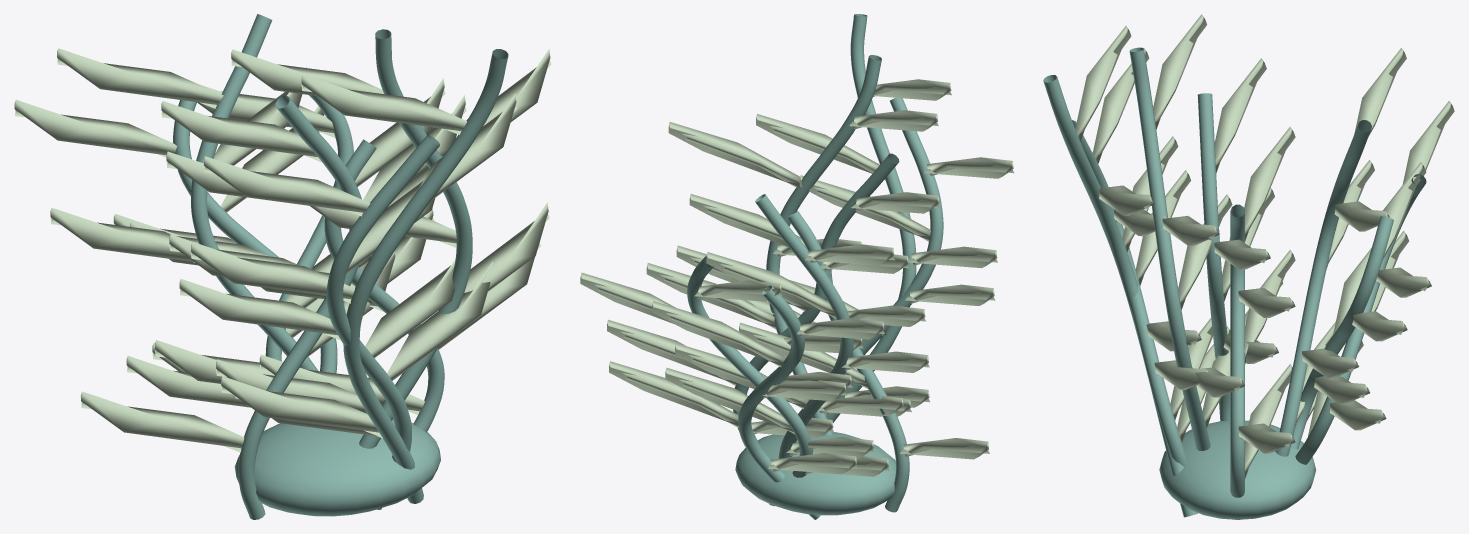
File: bio_aquatic_frond_06_near.glb
The picture shows the model from 3 angles, left to right: view 1: azimuth 30°, elevation 25°; view 2: azimuth 150°, elevation 25°; view 3: azimuth 270°, elevation 25°; orthographic projection. The views are drawn at different scales.
Parts seen in each view (by area): view 1: Ruffled aquatic blade.010, Holdfast, Ruffled aquatic blade.035, Ruffled aquatic blade.020, Ruffled aquatic blade.005, Ruffled aquatic blade.025, Flexible stipe.002, Ruffled aquatic blade.030, Ruffled aquatic blade.015, Flexible stipe.007, Flexible stipe.004, Flexible stipe.005 (+5 smaller); view 2: Ruffled aquatic blade.030, Ruffled aquatic blade.005, Ruffled aquatic blade.020, Ruffled aquatic blade.025, Holdfast, Ruffled aquatic blade.015, Ruffled aquatic blade.010, Ruffled aquatic blade.035, Ruffled aquatic blade, Flexible stipe.004, Flexible stipe.005, Flexible stipe.002 (+5 smaller); view 3: Holdfast, Ruffled aquatic blade, Ruffled aquatic blade.025, Flexible stipe.005, Ruffled aquatic blade.010, Ruffled aquatic blade.035, Ruffled aquatic blade.005, Flexible stipe.001, Ruffled aquatic blade.030, Ruffled aquatic blade.020, Ruffled aquatic blade.015, Flexible stipe.002 (+5 smaller).
Boxes of the visible parts, box(x1,y1,x2,y2) form: Ruffled aquatic blade.010: box(190, 74, 517, 437); Holdfast: box(234, 419, 440, 516); Ruffled aquatic blade.035: box(179, 156, 493, 438); Ruffled aquatic blade.020: box(80, 95, 466, 452); Ruffled aquatic blade.005: box(50, 48, 371, 383); Ruffled aquatic blade.025: box(216, 49, 551, 413); Flexible stipe.002: box(343, 49, 508, 503); Ruffled aquatic blade.030: box(14, 99, 434, 372); Ruffled aquatic blade.015: box(126, 78, 445, 407); Flexible stipe.007: box(326, 134, 439, 509); Flexible stipe.004: box(238, 95, 361, 519); Flexible stipe.005: box(359, 29, 472, 448); Ruffled aquatic blade.030: box(609, 301, 884, 474); Ruffled aquatic blade.005: box(675, 244, 929, 458); Ruffled aquatic blade.020: box(689, 192, 989, 459); Ruffled aquatic blade.025: box(646, 110, 938, 415); Holdfast: box(735, 432, 896, 515); Ruffled aquatic blade.015: box(580, 272, 889, 476); Ruffled aquatic blade.010: box(756, 79, 997, 407); Ruffled aquatic blade.035: box(747, 157, 1013, 416); Ruffled aquatic blade: box(607, 245, 909, 437); Flexible stipe.004: box(821, 153, 909, 512); Flexible stipe.005: box(766, 55, 881, 435); Flexible stipe.002: box(826, 14, 916, 422); Holdfast: box(1159, 420, 1315, 519); Ruffled aquatic blade: box(1238, 127, 1295, 478); Ruffled aquatic blade.025: box(1153, 14, 1246, 428); Flexible stipe.005: box(1129, 47, 1210, 450); Ruffled aquatic blade.010: box(1075, 26, 1212, 420); Ruffled aquatic blade.035: box(1092, 48, 1230, 441); Ruffled aquatic blade.005: box(1295, 48, 1406, 426); Flexible stipe.001: box(1275, 120, 1371, 456); Ruffled aquatic blade.030: box(1308, 101, 1454, 436); Ruffled aquatic blade.020: box(1214, 58, 1283, 363); Ruffled aquatic blade.015: box(1307, 162, 1426, 420); Flexible stipe.002: box(1043, 75, 1197, 517).
Size of the model in its own units: 1.8 by 1.89 by 1.57.
